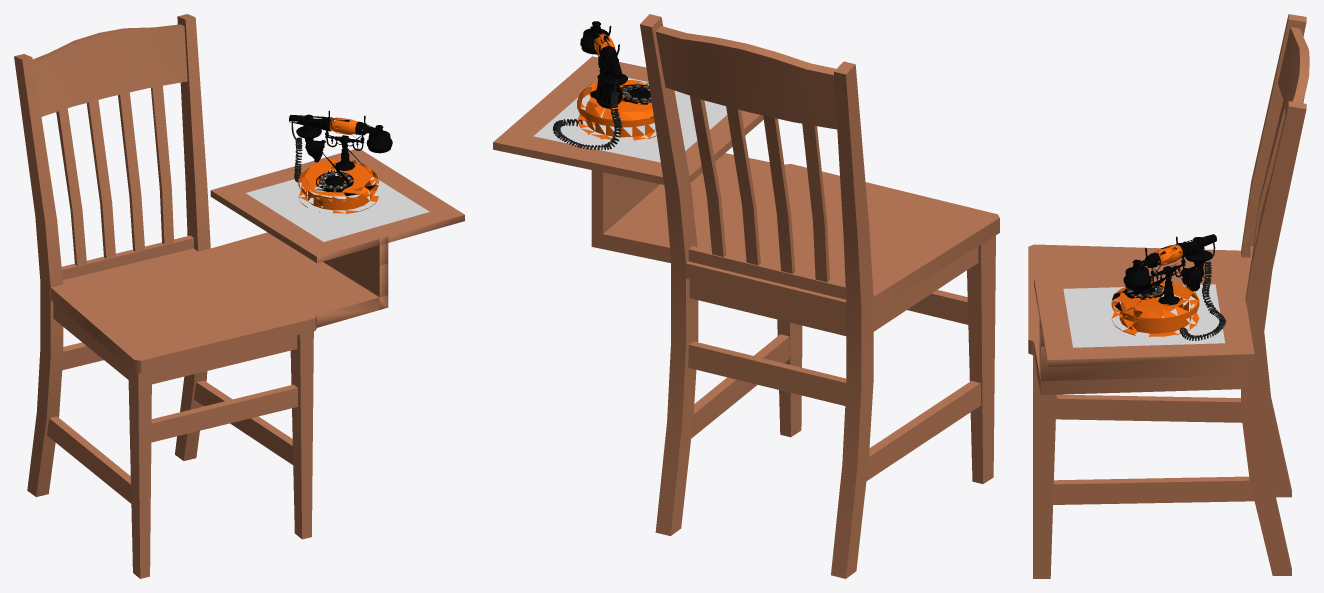
File: 194 - Sedia con telefono.glb
3 views of the same model, side by side, from view 1: azimuth 30°, elevation 25°; view 2: azimuth 150°, elevation 25°; view 3: azimuth 270°, elevation 25° (orthographic). The views are drawn at different scales.
Visible parts, largest first — view 1: 194 - Sedia con telefono; view 2: 194 - Sedia con telefono; view 3: 194 - Sedia con telefono.
Boxes of the visible parts, box(x1,y1,x2,y2) form: 194 - Sedia con telefono: box(14, 14, 464, 578); 194 - Sedia con telefono: box(493, 14, 999, 578); 194 - Sedia con telefono: box(1028, 14, 1309, 578).
Size of the model in its own units: 0.9119 by 1.12 by 0.6051.
